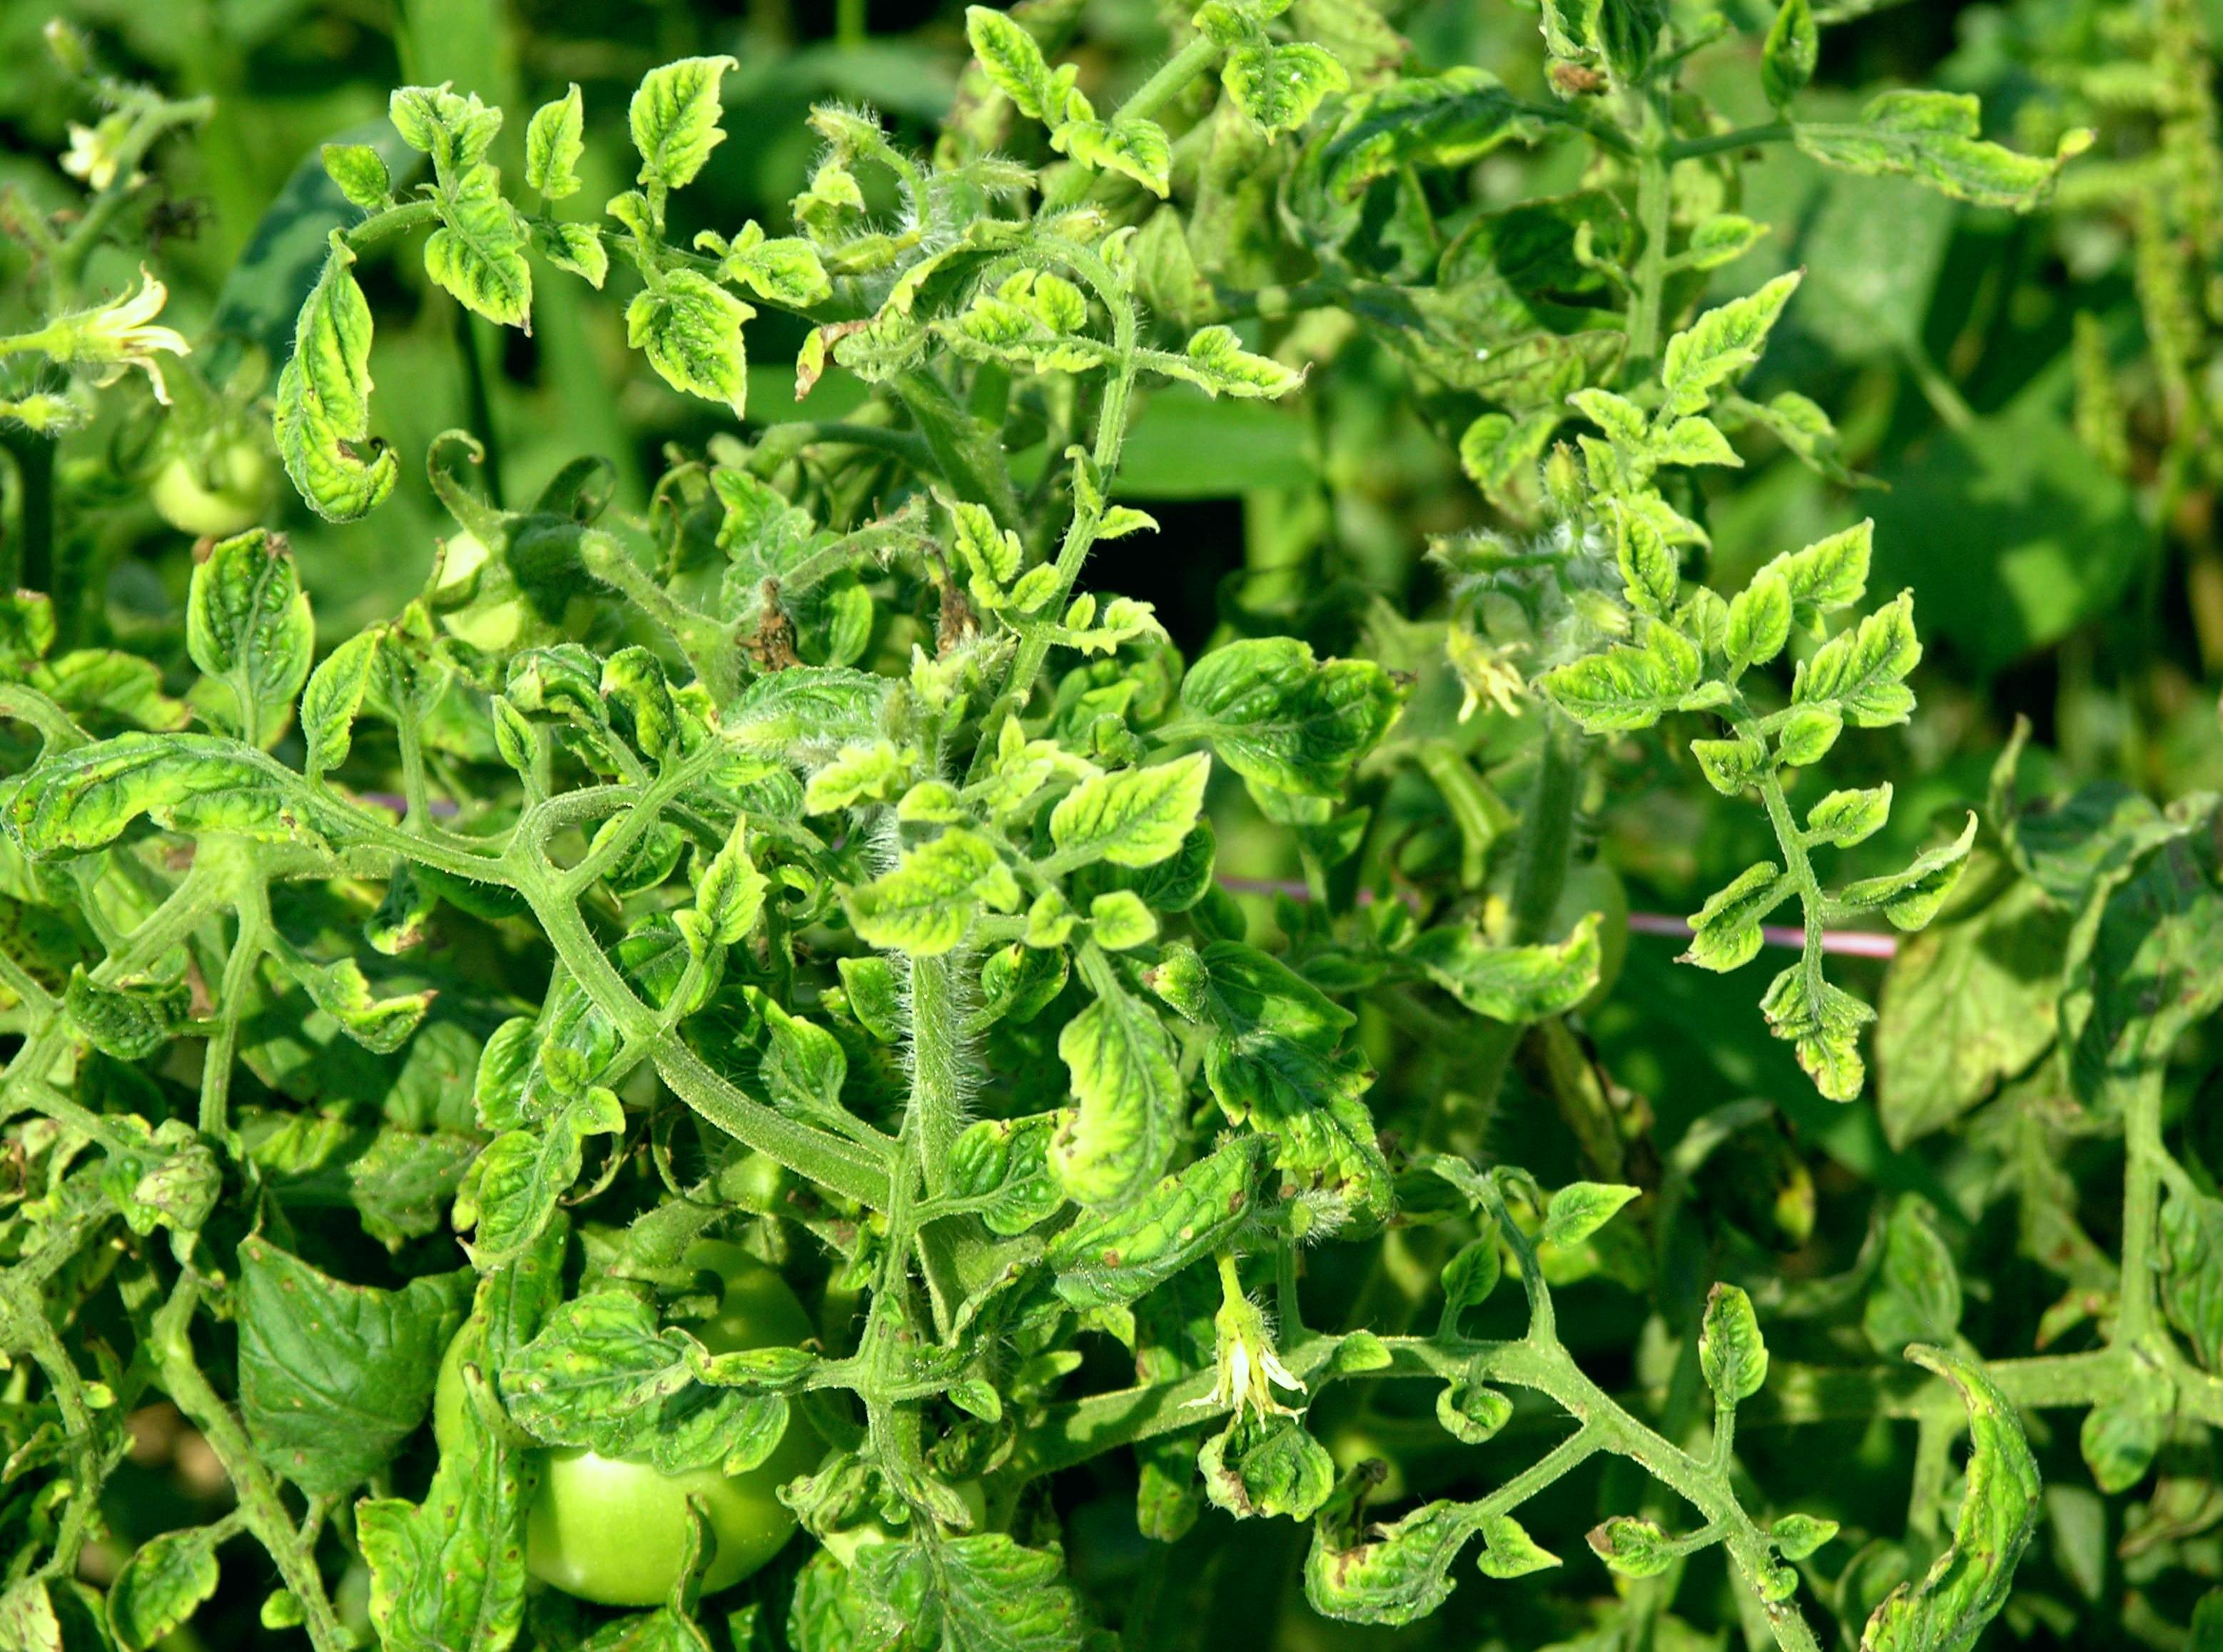Tomato leaf yellow virus: (406, 1282, 846, 1503), (1839, 1392, 2106, 1652), (1157, 629, 1455, 825), (816, 784, 1095, 978), (319, 1399, 532, 1652), (1050, 1114, 1287, 1329), (429, 1058, 609, 1334), (264, 251, 404, 542), (1282, 1466, 1509, 1646), (1759, 597, 1937, 809), (392, 134, 557, 360), (1036, 716, 1232, 890), (1040, 992, 1190, 1215), (619, 253, 781, 455), (181, 527, 322, 737), (596, 21, 749, 202), (1726, 956, 1888, 1124), (1633, 261, 1811, 411), (1215, 26, 1383, 157), (932, 262, 1138, 366), (1170, 318, 1326, 439), (1745, 519, 1878, 623), (1072, 108, 1183, 223)
